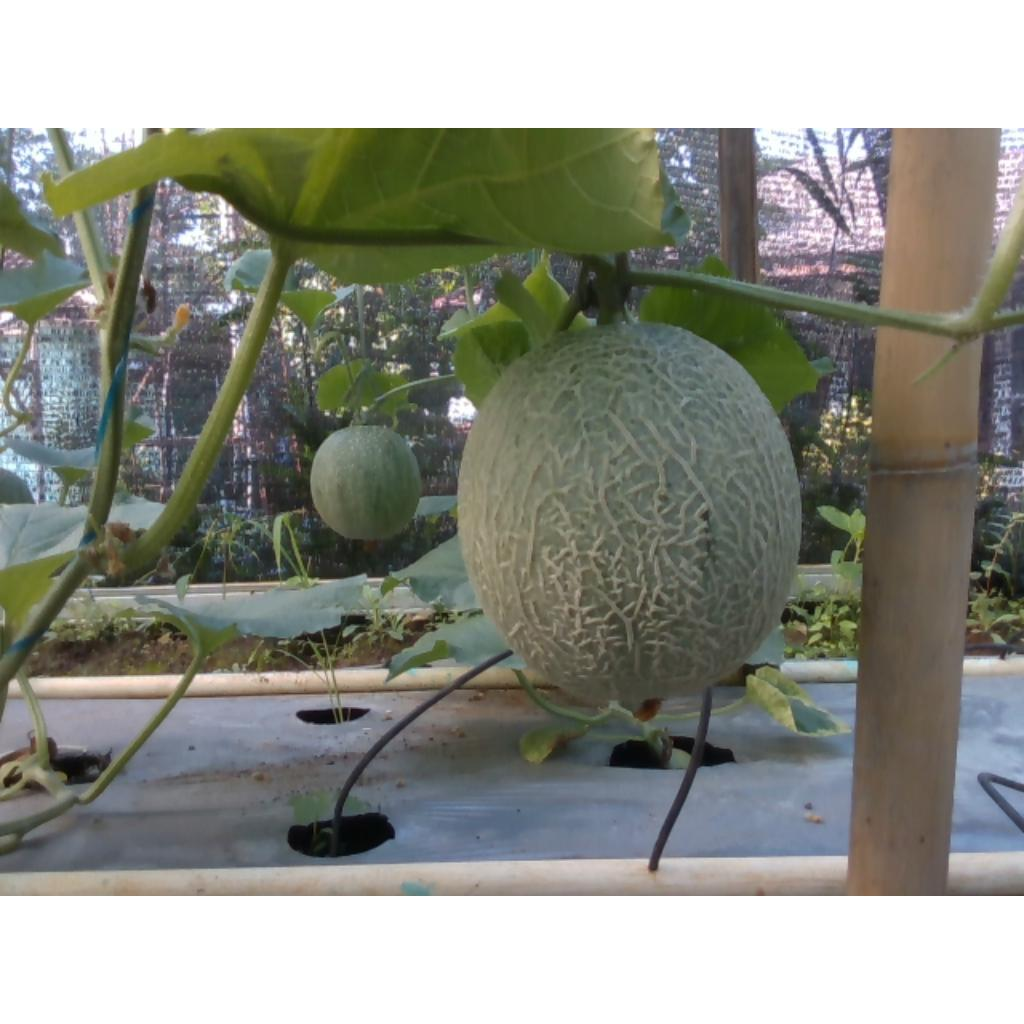melon: (459, 323, 803, 703)
